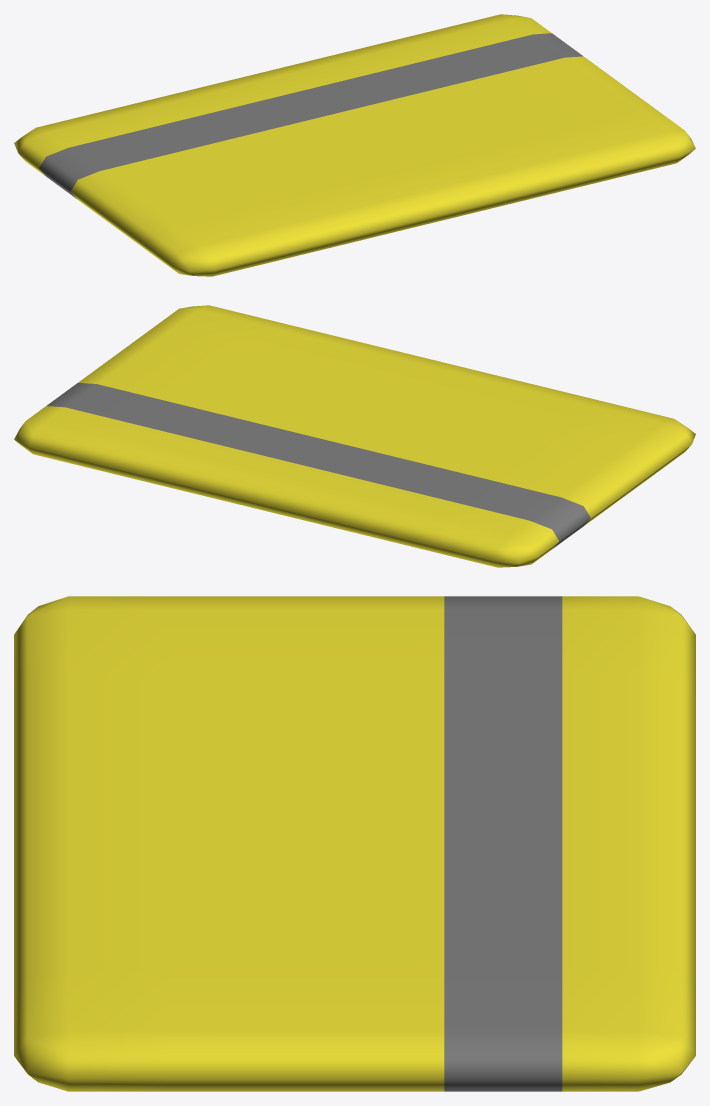
The model's file is Card.fbx.
3 views of the same model, one above another, from view 1: azimuth 30°, elevation 25°; view 2: azimuth 150°, elevation 25°; view 3: azimuth 270°, elevation 25° (orthographic). The views are drawn at different scales.
Parts seen in each view (by area): view 1: pCube113; view 2: pCube113; view 3: pCube113.
Boxes of the visible parts, x1=… form: pCube113: x1=14, y1=14, x2=695, y2=276; pCube113: x1=14, y1=305, x2=695, y2=567; pCube113: x1=14, y1=596, x2=695, y2=1091.
Bounding box in the file's own units: 0.8167 × 0.0402 × 0.5002.
